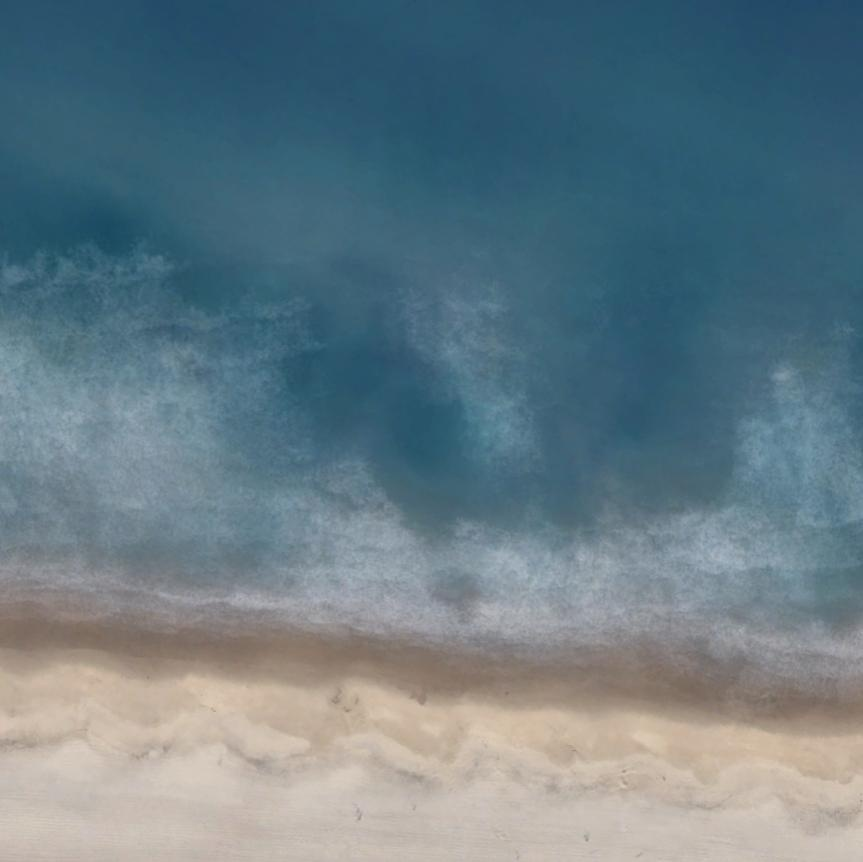rip_current: (248, 211, 533, 577)
